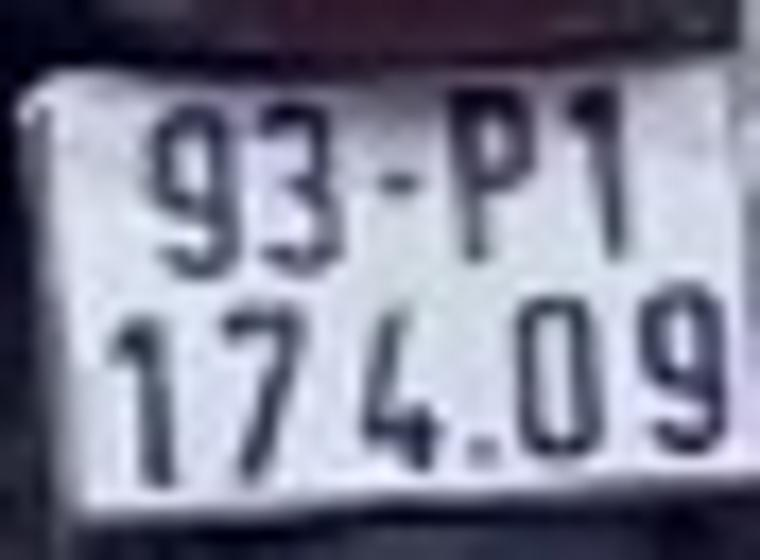-: (372, 172, 418, 195)
.: (469, 441, 495, 463)
0: (517, 293, 605, 458)
1: (112, 315, 176, 490), (567, 84, 628, 266)
3: (258, 100, 346, 278)
4: (359, 306, 444, 472)
7: (216, 304, 309, 480)
9: (142, 98, 237, 279), (643, 280, 729, 451)
P: (445, 81, 534, 259)
